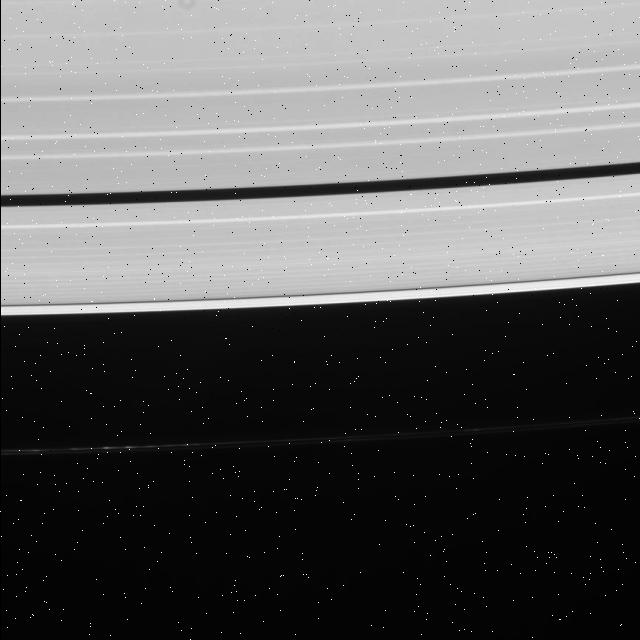Saturn: (0, 1, 640, 464)
